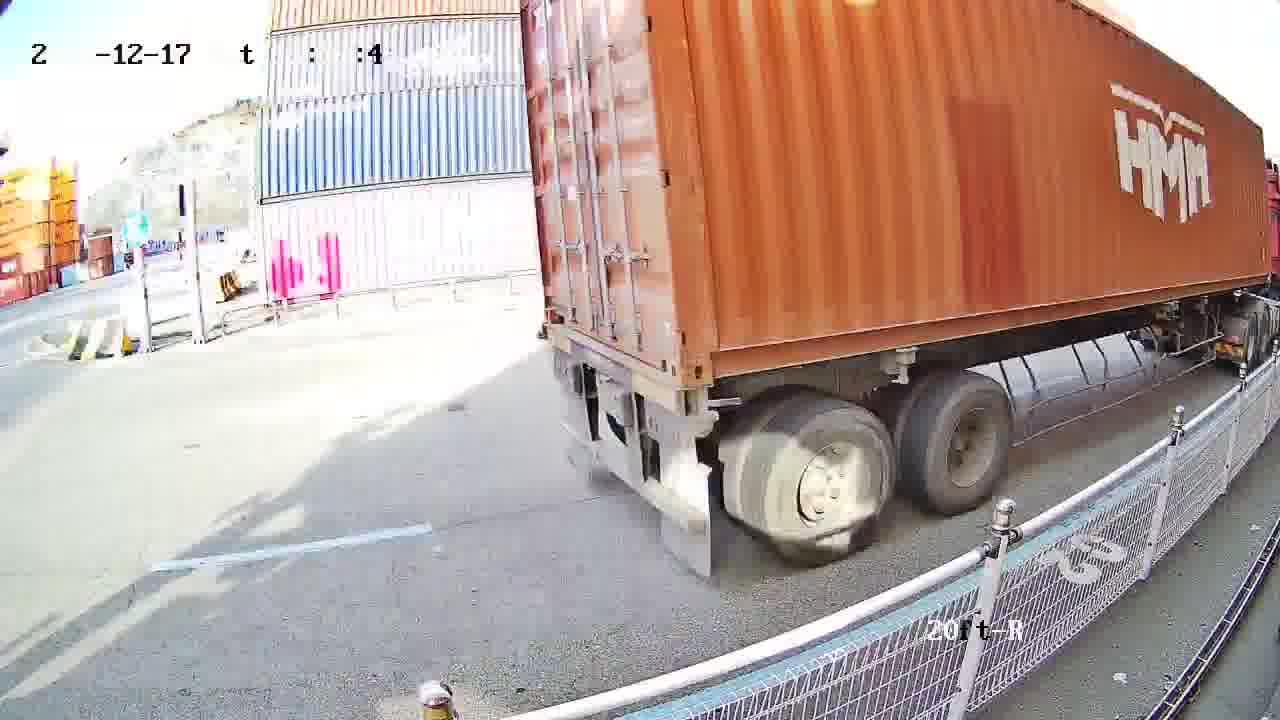Chassis: (536, 323, 680, 419)
Cone: (679, 385, 718, 419)
Hole_L: (679, 323, 749, 384)
Hole_R: (642, 331, 679, 387)
